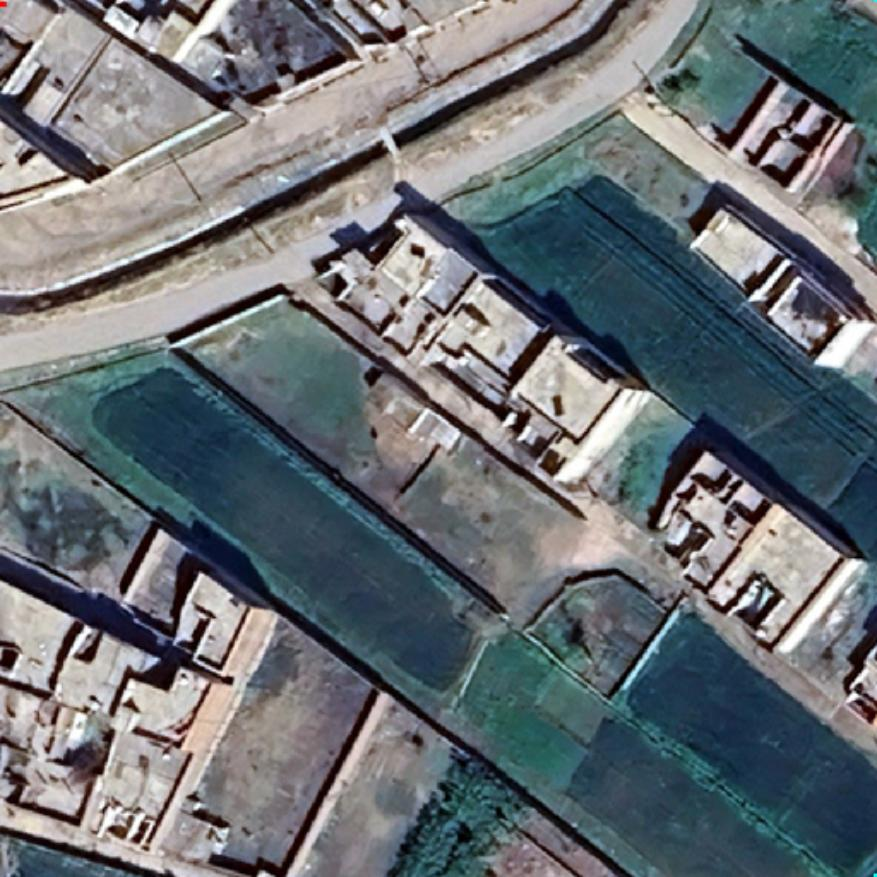Solarpanel: (552, 395, 566, 418)
